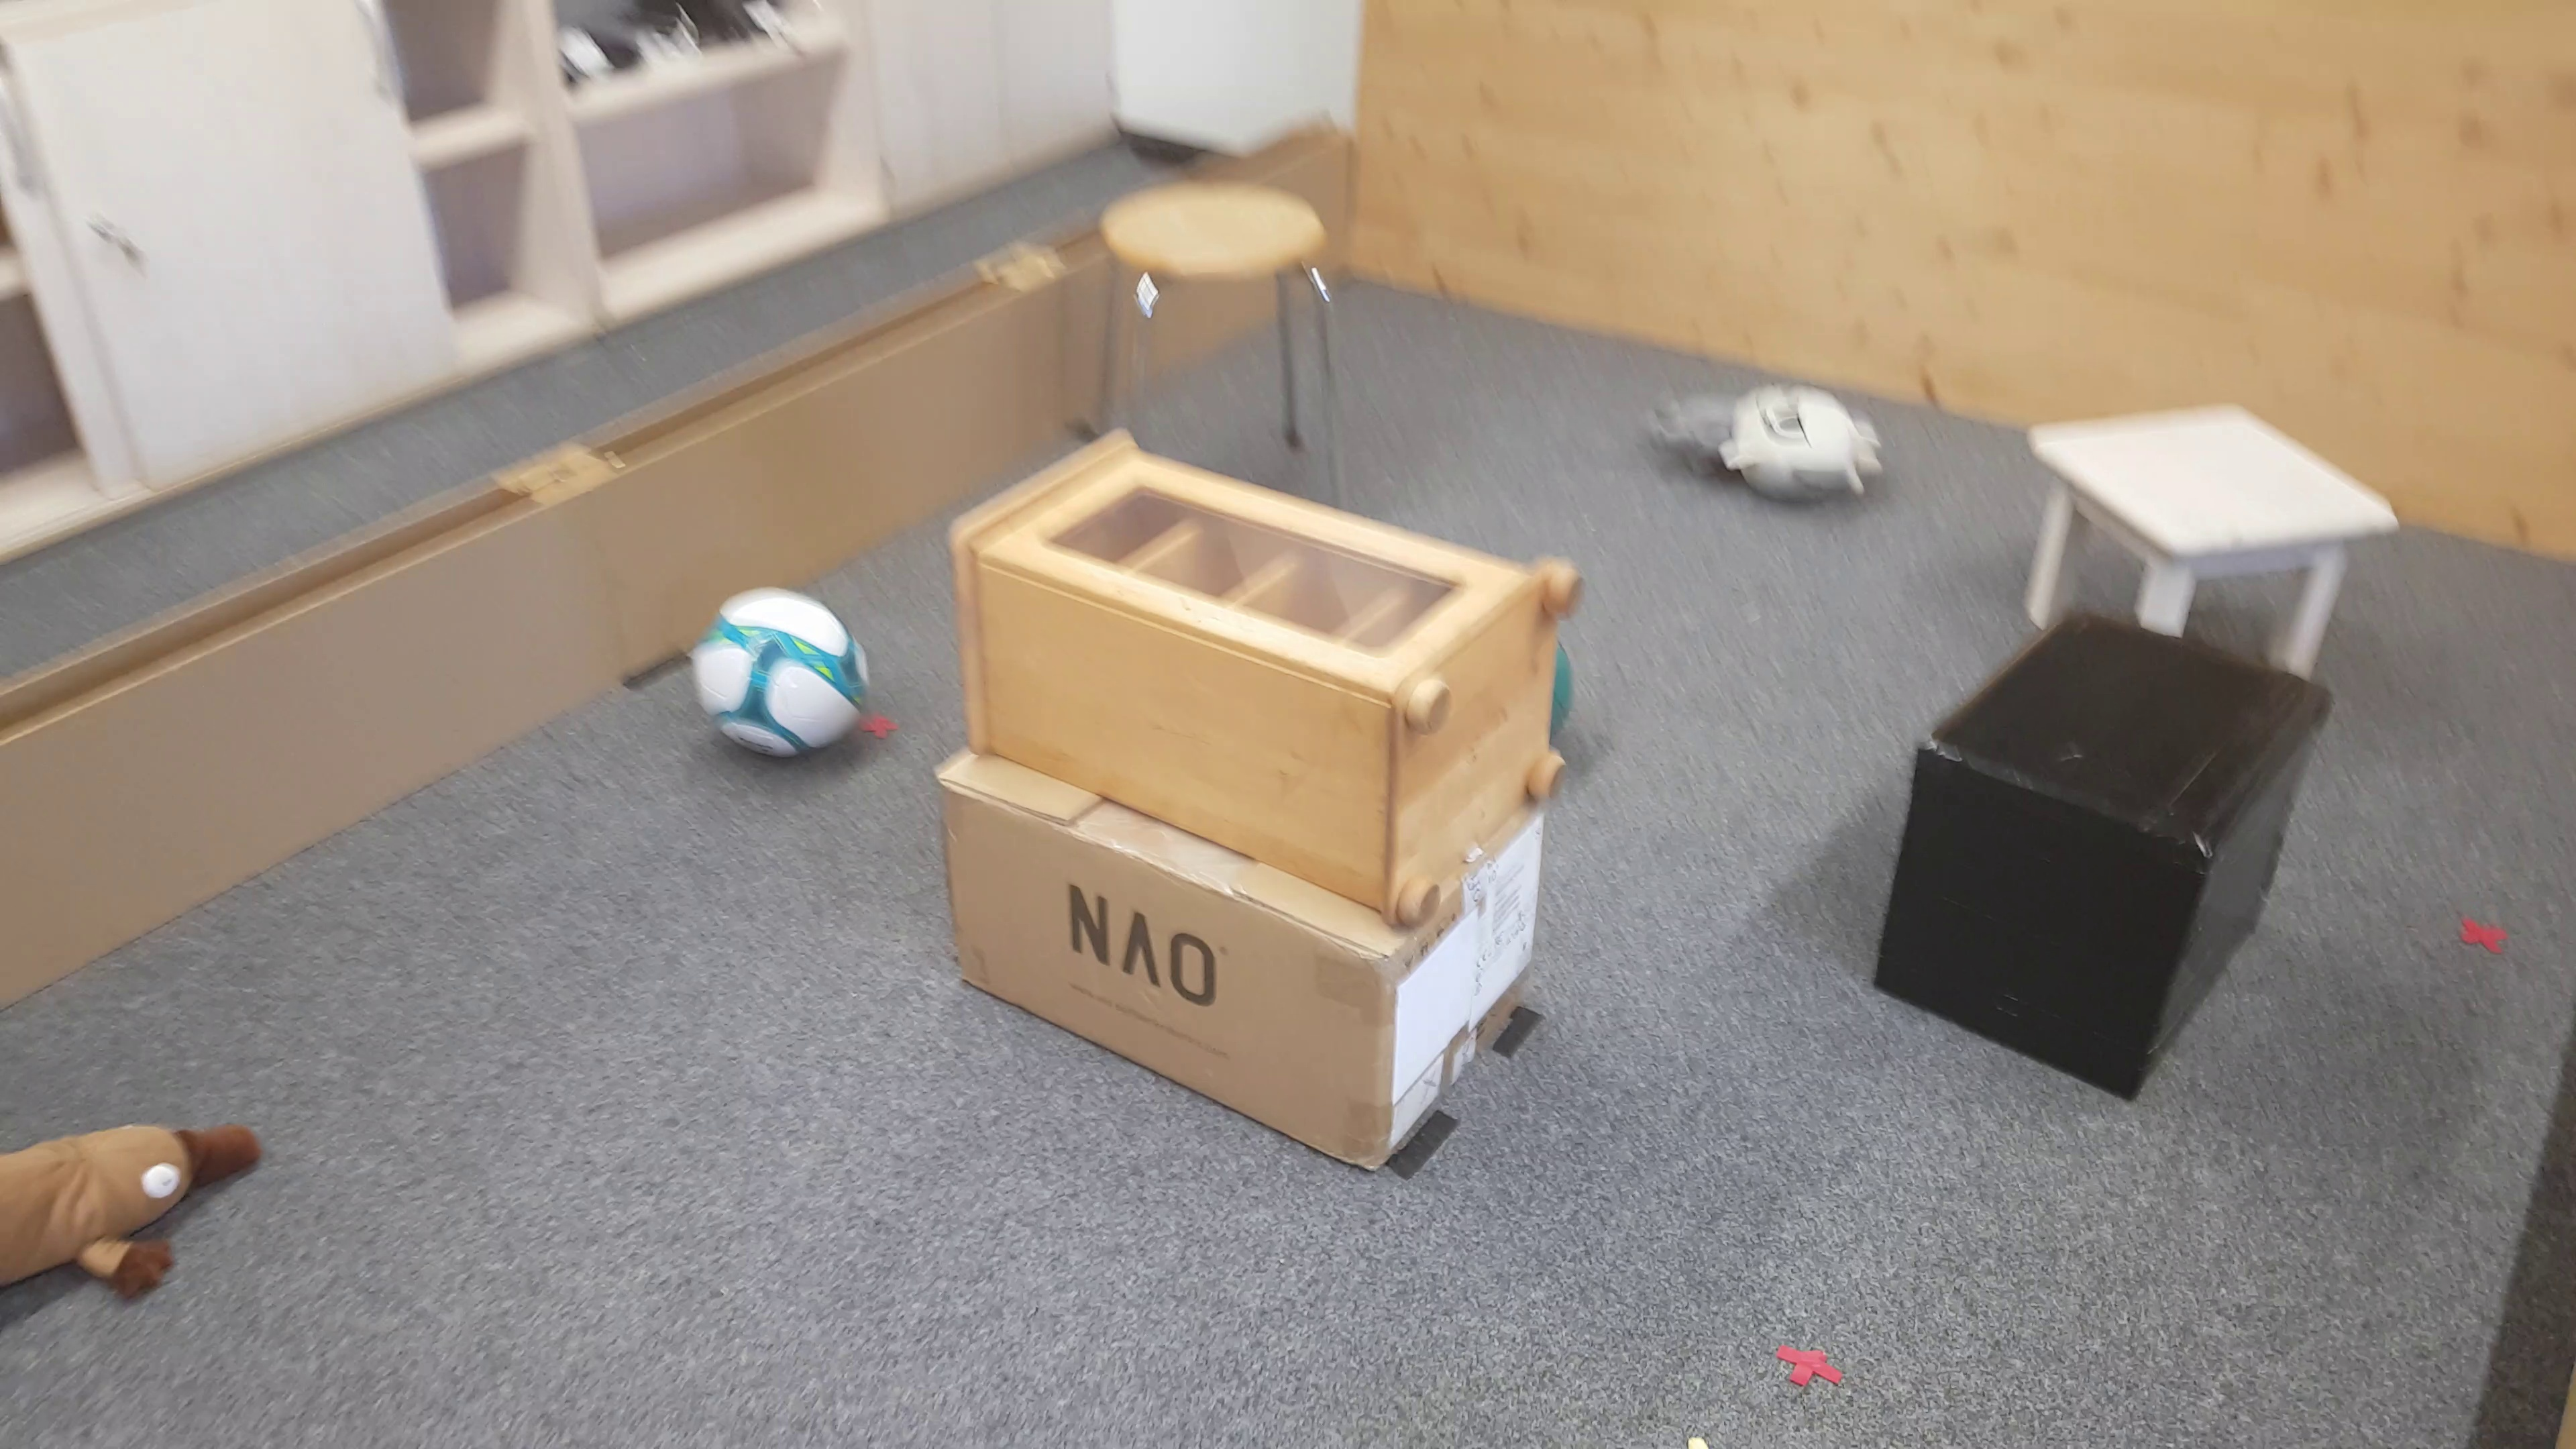grasp: (5, 1118, 265, 1315), (1638, 380, 1886, 511)
kick: (690, 586, 867, 763)
push: (1868, 616, 2335, 1108)
